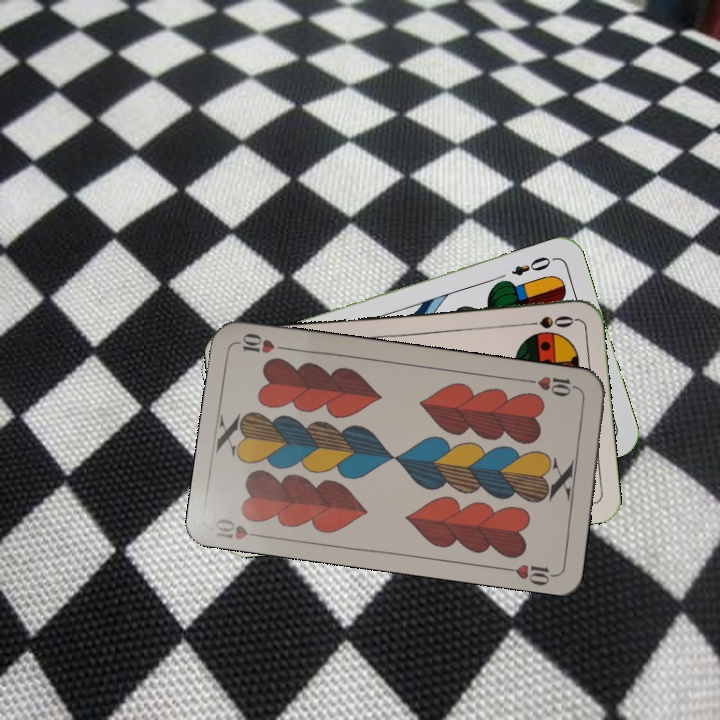EO: (507, 252, 558, 279)
H10: (523, 372, 582, 400), (211, 514, 269, 542)
SO: (518, 312, 577, 331)
